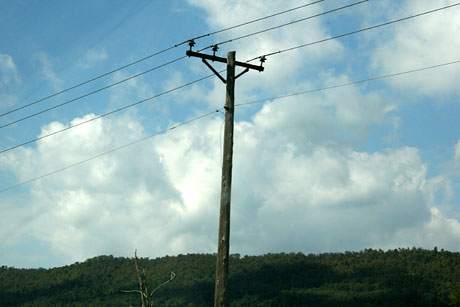utility_pole: (177, 36, 270, 96)
